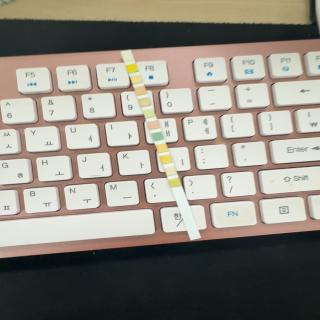mark: (130, 76, 142, 84), (161, 155, 171, 164), (169, 179, 180, 187), (148, 121, 159, 129), (144, 110, 155, 118), (157, 144, 167, 152), (154, 133, 164, 141), (135, 87, 146, 94), (140, 98, 149, 106), (165, 168, 175, 175), (127, 65, 137, 72), (123, 54, 133, 60)
